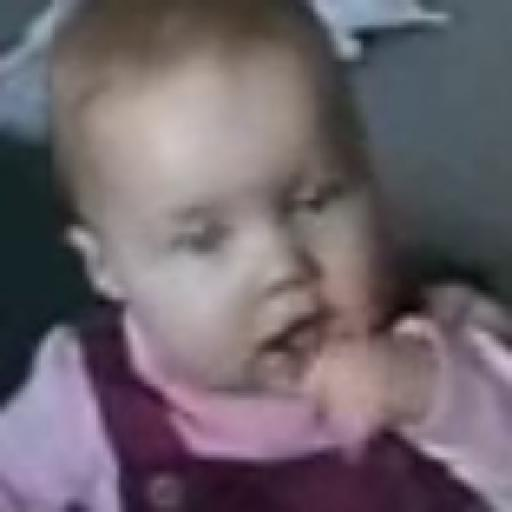Autism: (47, 3, 469, 476)
